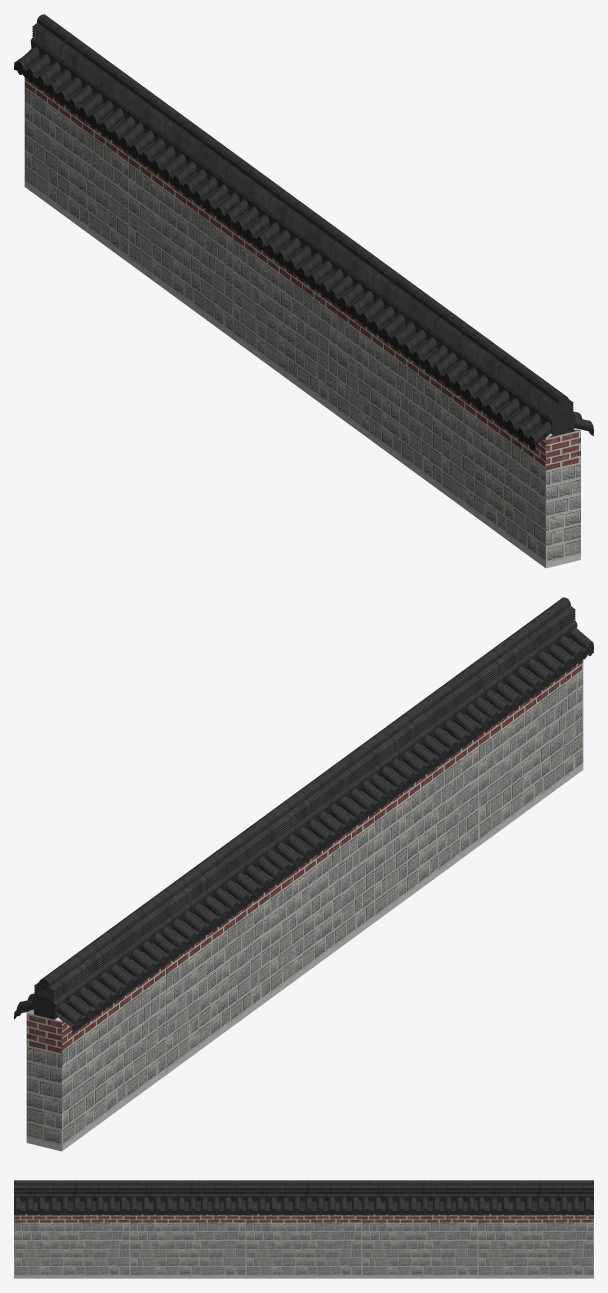
Rendered from SM_DG_HG_StoneWallH_Splines_4.fbx.
3 views of the same model, one above another, from view 1: azimuth 30°, elevation 25°; view 2: azimuth 150°, elevation 25°; view 3: azimuth 270°, elevation 25° (orthographic). The views are drawn at different scales.
Visible parts, largest first — view 1: SM_DG_HG_StoneWallH_Splines_4; view 2: SM_DG_HG_StoneWallH_Splines_4; view 3: SM_DG_HG_StoneWallH_Splines_4.
Part boxes in pixels (x1,y1,x2,y2): SM_DG_HG_StoneWallH_Splines_4: (14, 14, 593, 568); SM_DG_HG_StoneWallH_Splines_4: (14, 597, 593, 1151); SM_DG_HG_StoneWallH_Splines_4: (14, 1180, 593, 1278).
Bounding box in the file's own units: 65.49 × 1001 × 178.
